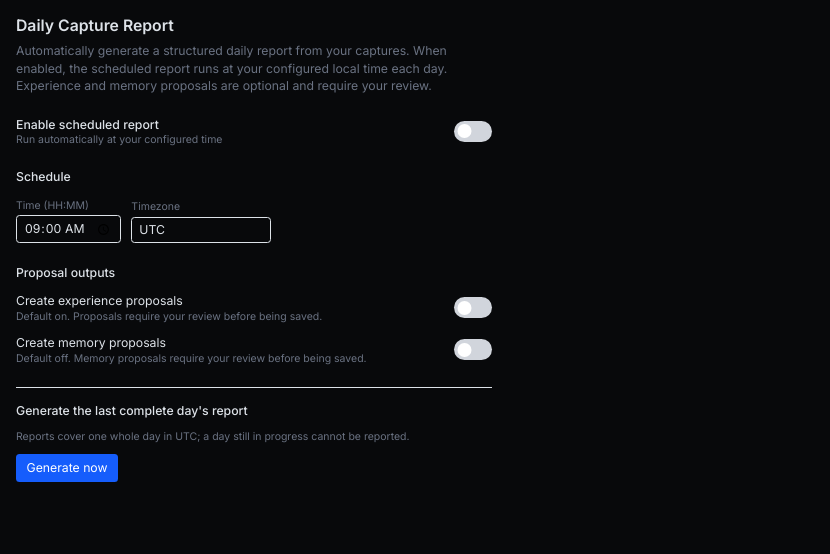
Test: DailyReportSettingsPage schedule › keeps a schedule the server refused unsaved, and clears the error once a save succeeds
Type "Asia/Shanghaii" into the field showing "UTC". click: (201, 230)
box: 131,217 -> 271,243
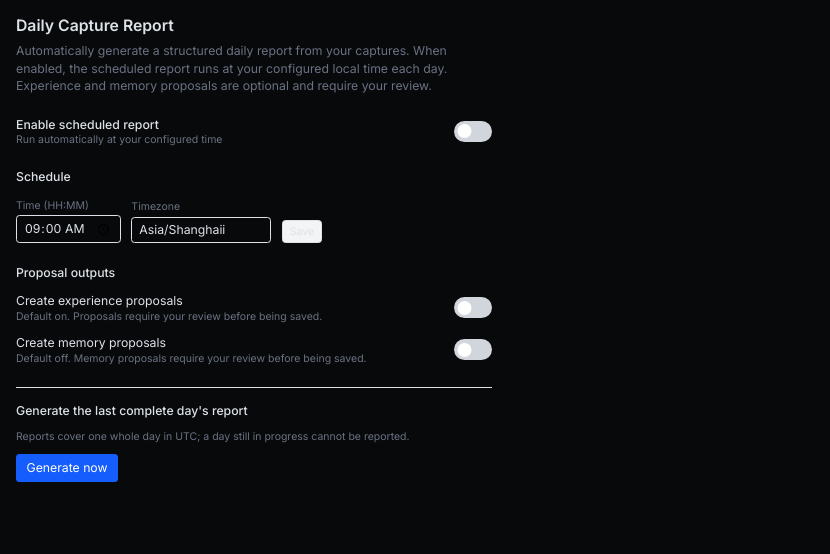
Click the button "Save". click: (302, 232)
box: 282,220 -> 322,243
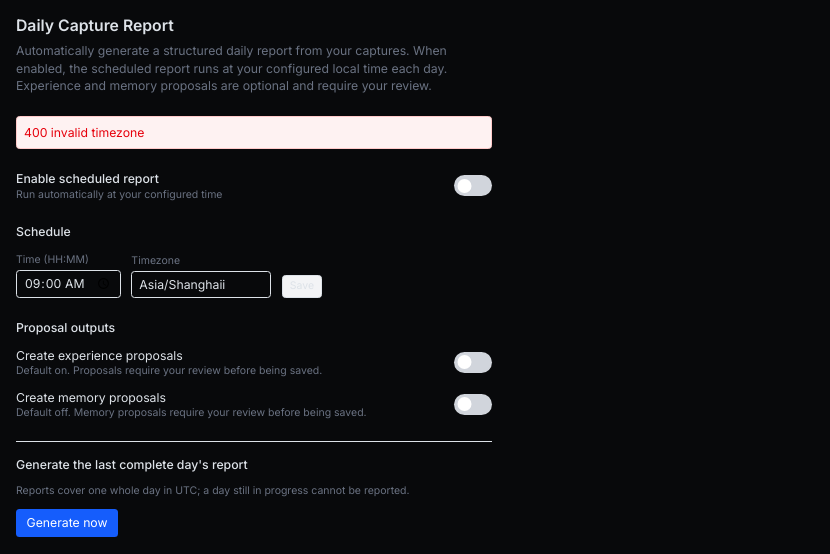
Now the button "Save" is shown, box 282,275 -> 322,298
Now the text "400 invalid timezone" is shown, box 16,116 -> 492,149
Replace the text in the field showing "Asia/Shanghaii" with "Asia/Shanghai". click: (201, 284)
box: 131,271 -> 271,298
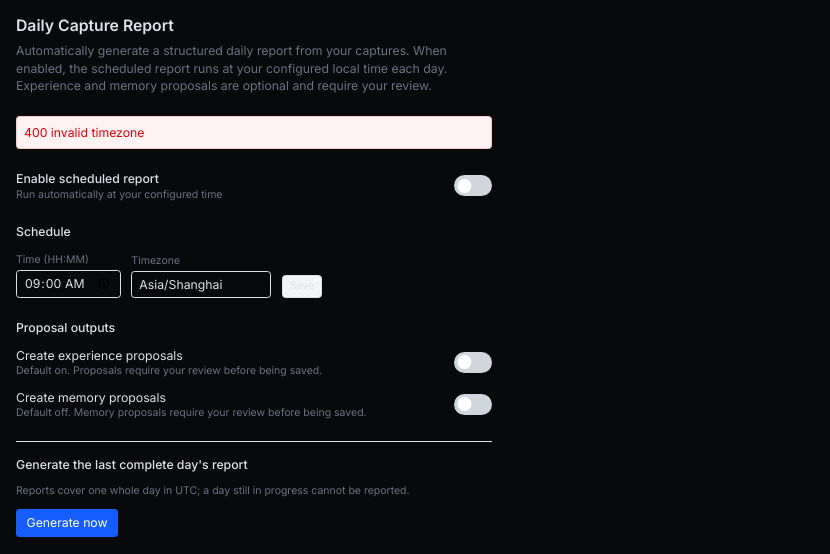
Click the button "Save". click: (302, 286)
box: 282,275 -> 322,298
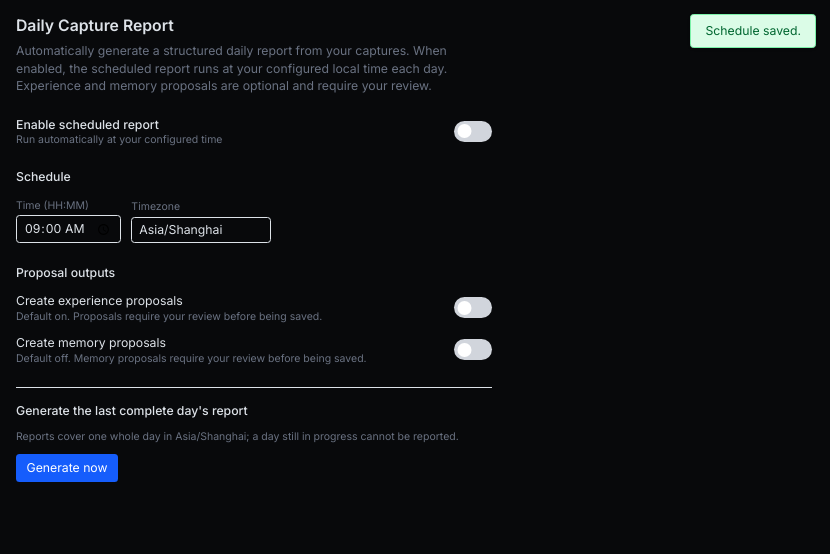
Now the text "Schedule saved." is shown, box 690,14 -> 816,48
Now the text "400 invalid timezone" is gone
